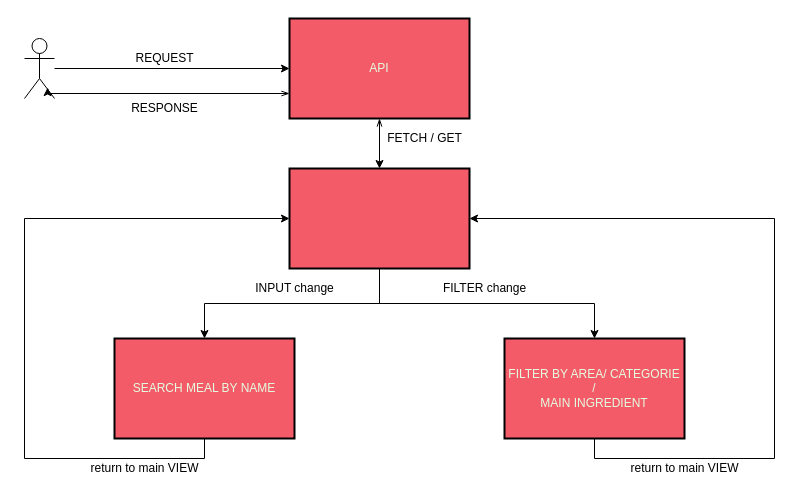
Image size: 800x495. Some labels were removed from this diagram. Each missing label, with the centre of its shape:
"Actor" goes at [39,68].
"LIST MEALS BY FIRST LETTER" goes at [379,218].
